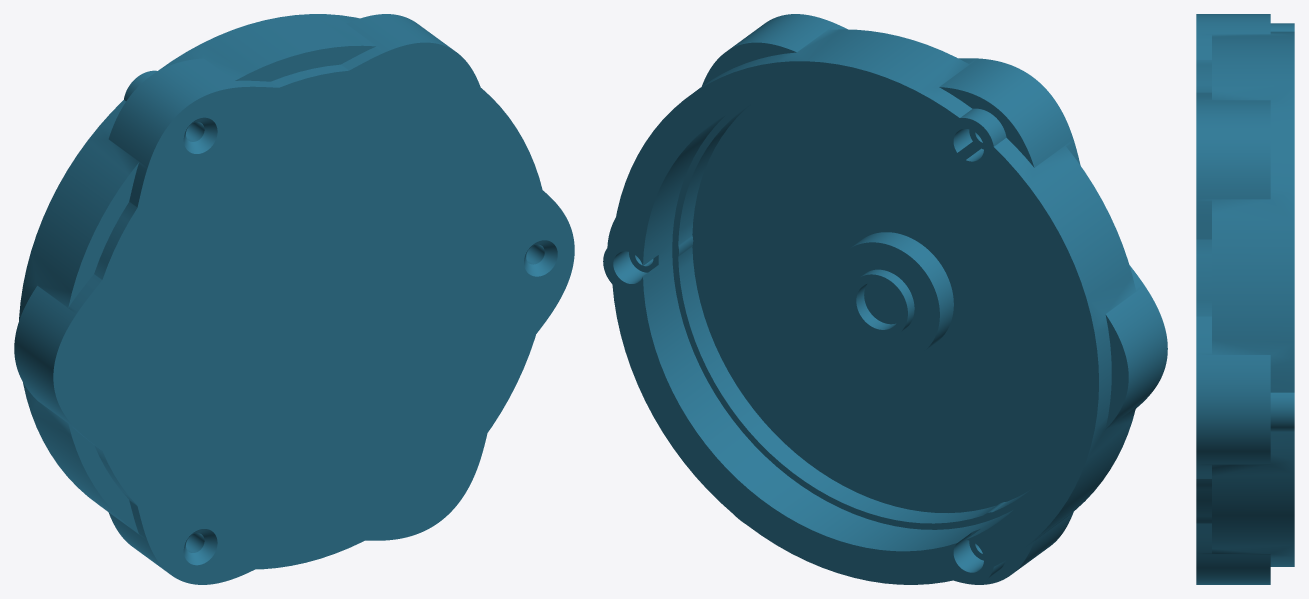
File: Cap_petal_flower.obj
3 renders of one model, left to right at view 1: azimuth 30°, elevation 25°; view 2: azimuth 150°, elevation 25°; view 3: azimuth 270°, elevation 25°, orthographic. The views are drawn at different scales.
Parts seen in each view (by area): view 1: Cap_petal_flower; view 2: Cap_petal_flower; view 3: Cap_petal_flower.
Boxes of the visible parts, x1,y1,x2,y2 form: Cap_petal_flower: (14,14,574,584); Cap_petal_flower: (603,14,1167,584); Cap_petal_flower: (1196,14,1294,584).
Size of the model in its own units: 61.6 by 57.6 by 10.6.
